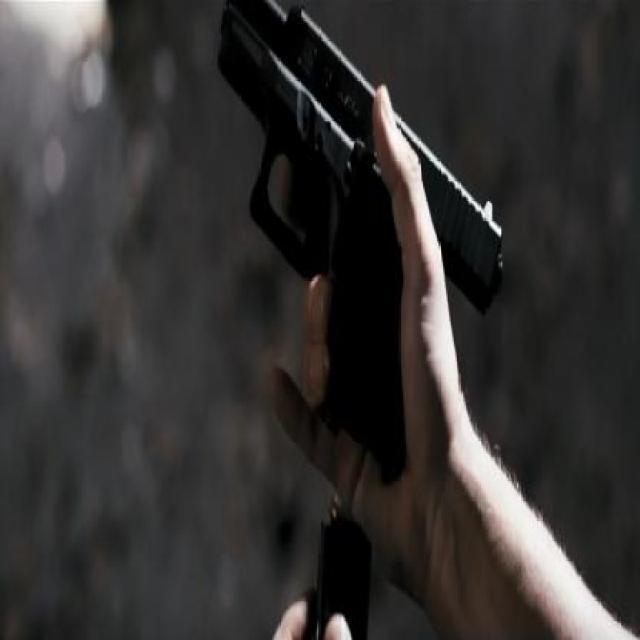gun: (193, 0, 544, 465)
